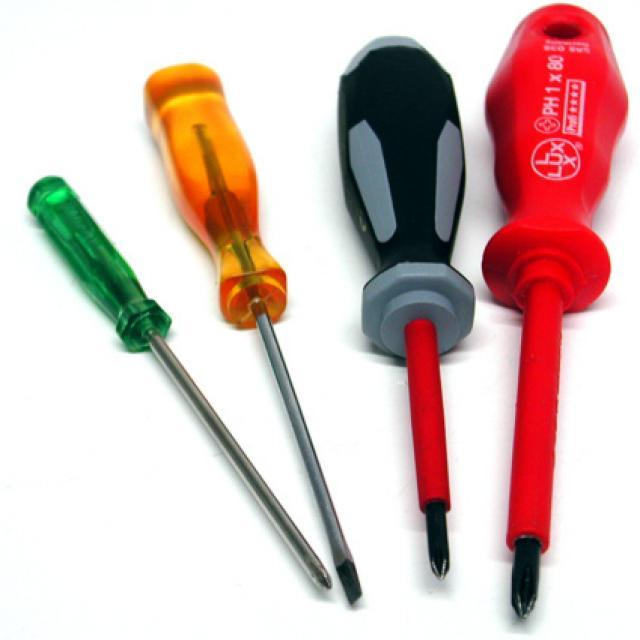screwdriver: (11, 168, 334, 582), (130, 58, 372, 598), (477, 2, 635, 618), (327, 24, 484, 586)
